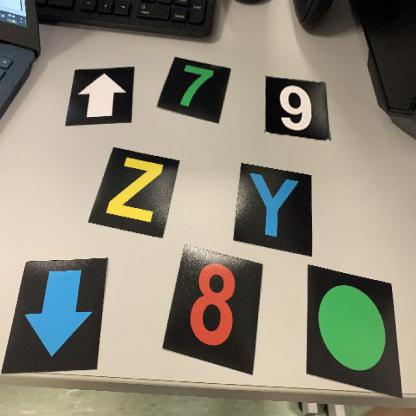7: (156, 54, 232, 126)
8: (163, 240, 264, 377)
9: (264, 76, 333, 142)
down: (1, 257, 110, 375)
go: (306, 263, 404, 401)
up: (64, 66, 136, 128)
y: (234, 162, 314, 259)
z: (87, 146, 181, 241)
